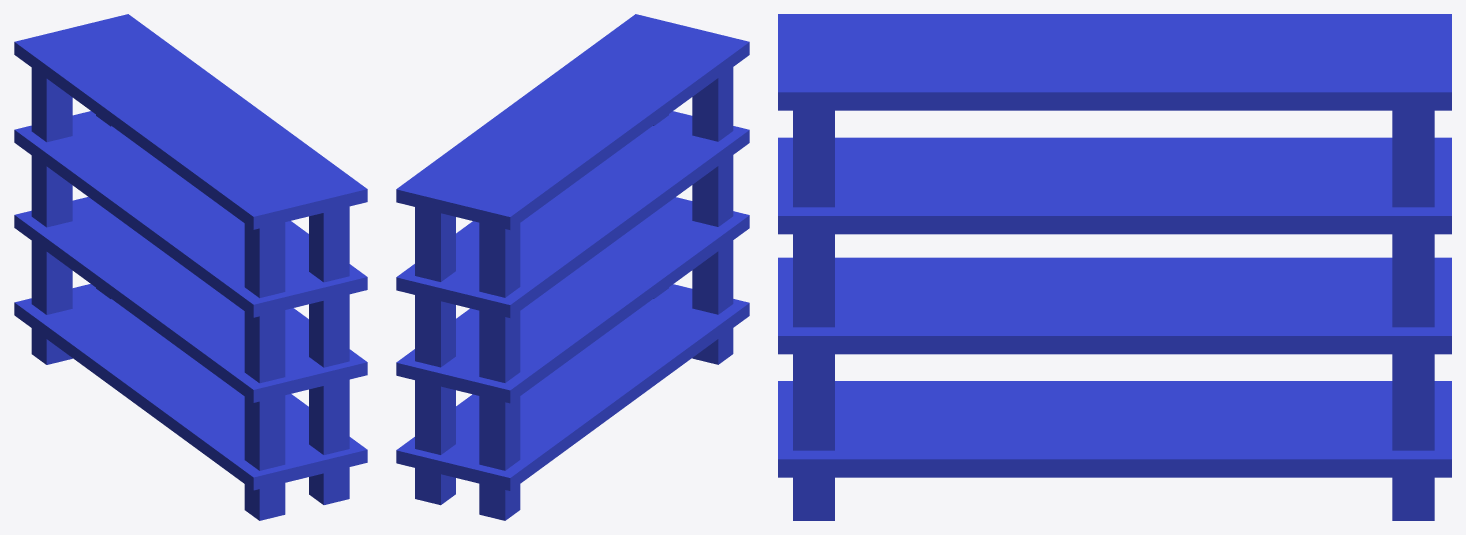
The model's file is shelf_m1.fbx.
The picture shows the model from 3 angles, left to right: view 1: azimuth 30°, elevation 25°; view 2: azimuth 150°, elevation 25°; view 3: azimuth 270°, elevation 25°; orthographic projection. The views are drawn at different scales.
Visible parts, largest first — view 1: Shelf; view 2: Shelf; view 3: Shelf.
Boxes of the visible parts, box(x1,y1,x2,y2) form: Shelf: box(14, 14, 367, 520); Shelf: box(396, 14, 749, 520); Shelf: box(778, 14, 1451, 520).
Size of the model in its own units: 1.1 by 2.87 by 4.
